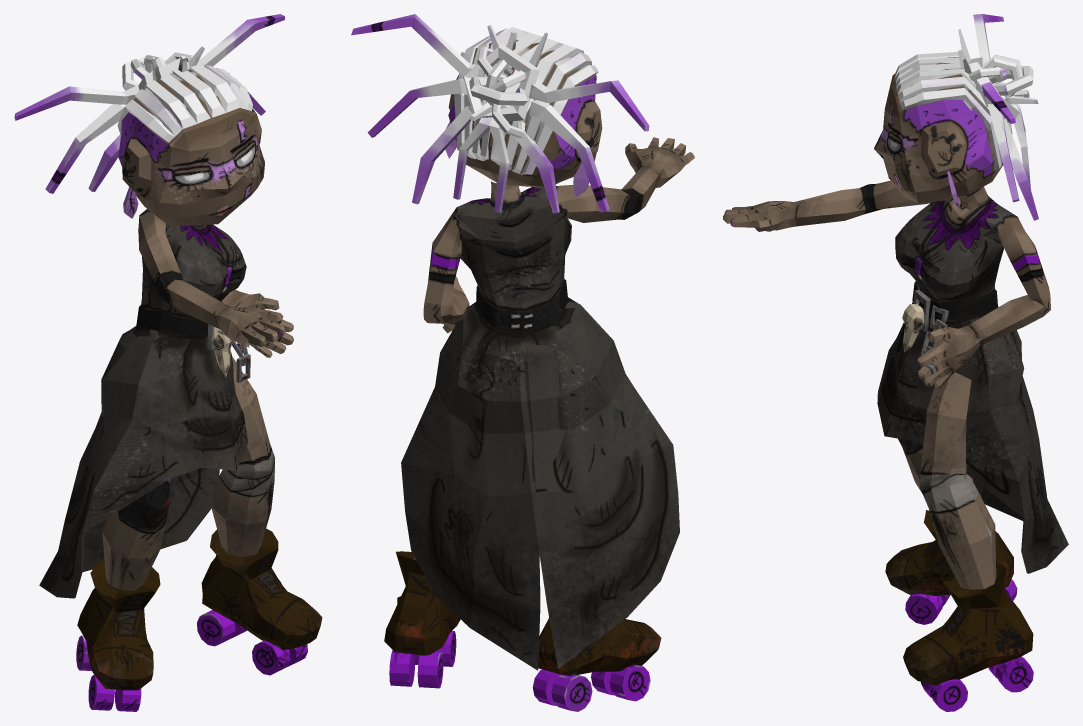
File: bruja_000013.obj
The picture shows the model from 3 angles, left to right: view 1: azimuth 30°, elevation 25°; view 2: azimuth 150°, elevation 25°; view 3: azimuth 270°, elevation 25°; orthographic projection. The views are drawn at different scales.
Parts seen in each view (by area): view 1: Bruja_Plane.001; view 2: Bruja_Plane.001; view 3: Bruja_Plane.001.
Boxes of the visible parts, x1,y1,x2,y2 form: Bruja_Plane.001: (14, 14, 322, 711); Bruja_Plane.001: (351, 14, 694, 711); Bruja_Plane.001: (723, 14, 1068, 711).
Bounding box in the file's own units: 7.43 × 16.33 × 8.29.
